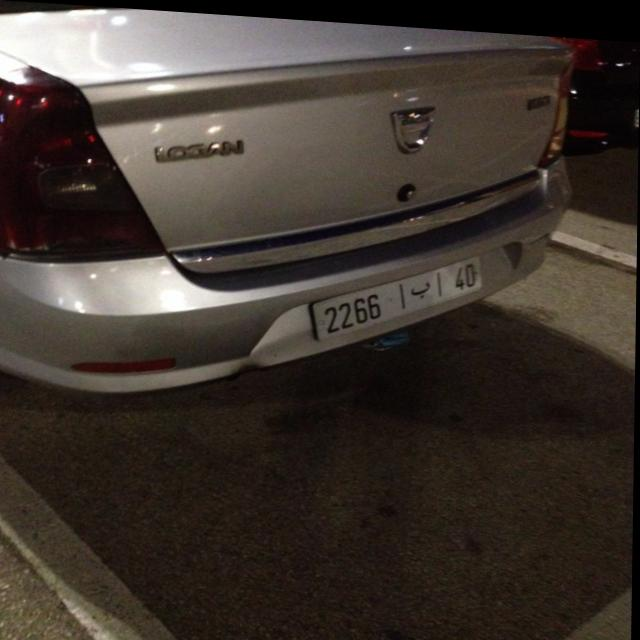License-Plate: (312, 250, 482, 335)
